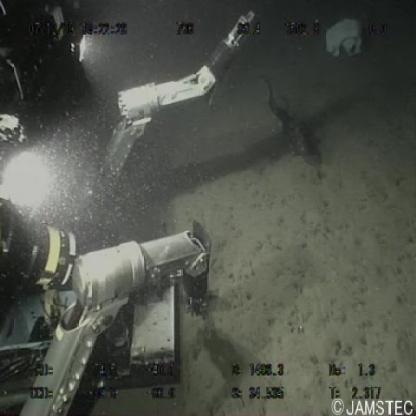Rov: (1, 1, 261, 416)
Rác: (322, 12, 366, 62)
